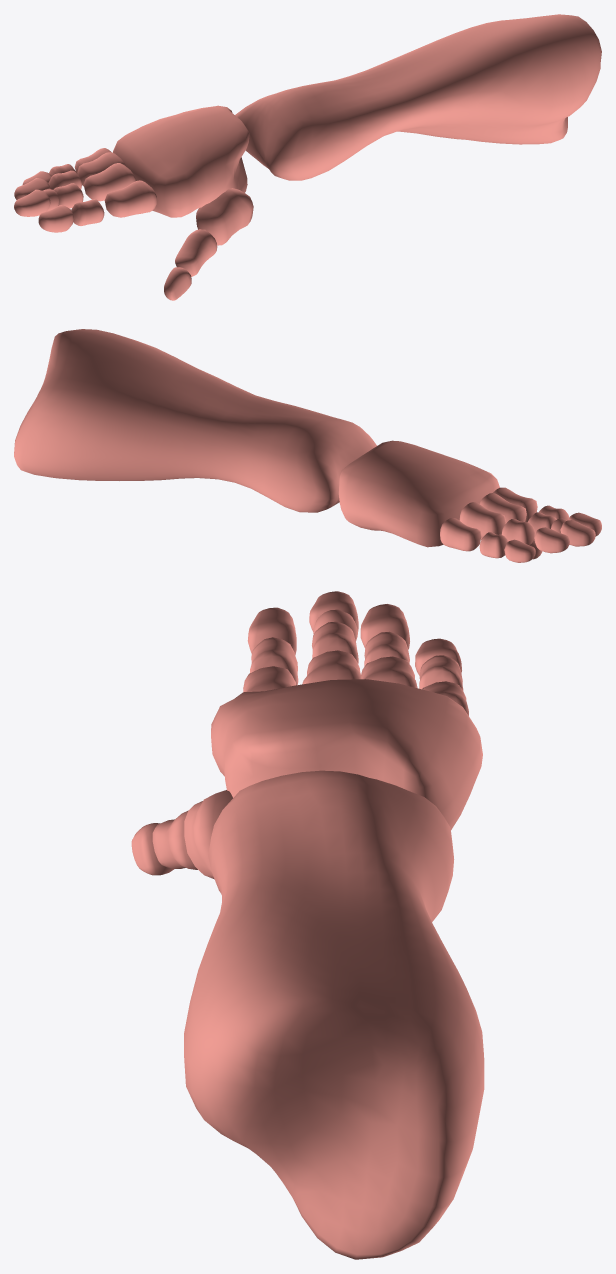
3 renders of one model, top to bottom at view 1: azimuth 30°, elevation 25°; view 2: azimuth 150°, elevation 25°; view 3: azimuth 270°, elevation 25°, orthographic. The views are drawn at different scales.
Parts seen in each view (by area): view 1: Beta_Surface.014; view 2: Beta_Surface.014; view 3: Beta_Surface.014.
Part boxes in pixels (bbox=[...]): Beta_Surface.014: bbox=[14, 14, 601, 300]; Beta_Surface.014: bbox=[14, 329, 601, 562]; Beta_Surface.014: bbox=[131, 591, 484, 1259].
Size of the model in its own units: 46.66 by 11.94 by 12.81.
